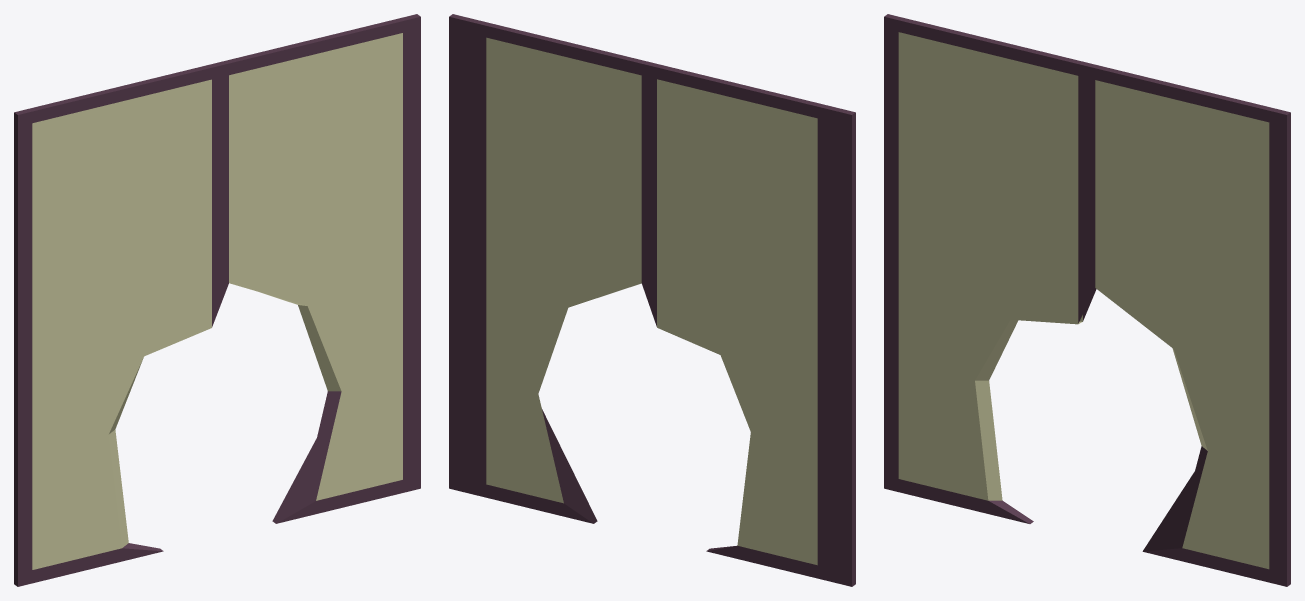
The model's file is WallHole.fbx.
3 views of the same model, side by side, from view 1: azimuth 30°, elevation 25°; view 2: azimuth 150°, elevation 25°; view 3: azimuth 330°, elevation 25° (orthographic).
Parts seen in each view (by area): view 1: Cube; view 2: Cube; view 3: Cube.
Part boxes in pixels (box(x1,y1,x2,y2)): Cube: box(14, 14, 420, 586); Cube: box(449, 14, 855, 586); Cube: box(884, 14, 1290, 586).
Bounding box in the file's own units: 471 × 526 × 7.55.
